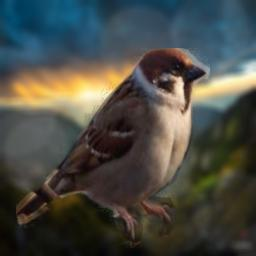Sparrow: (16, 45, 210, 248)
